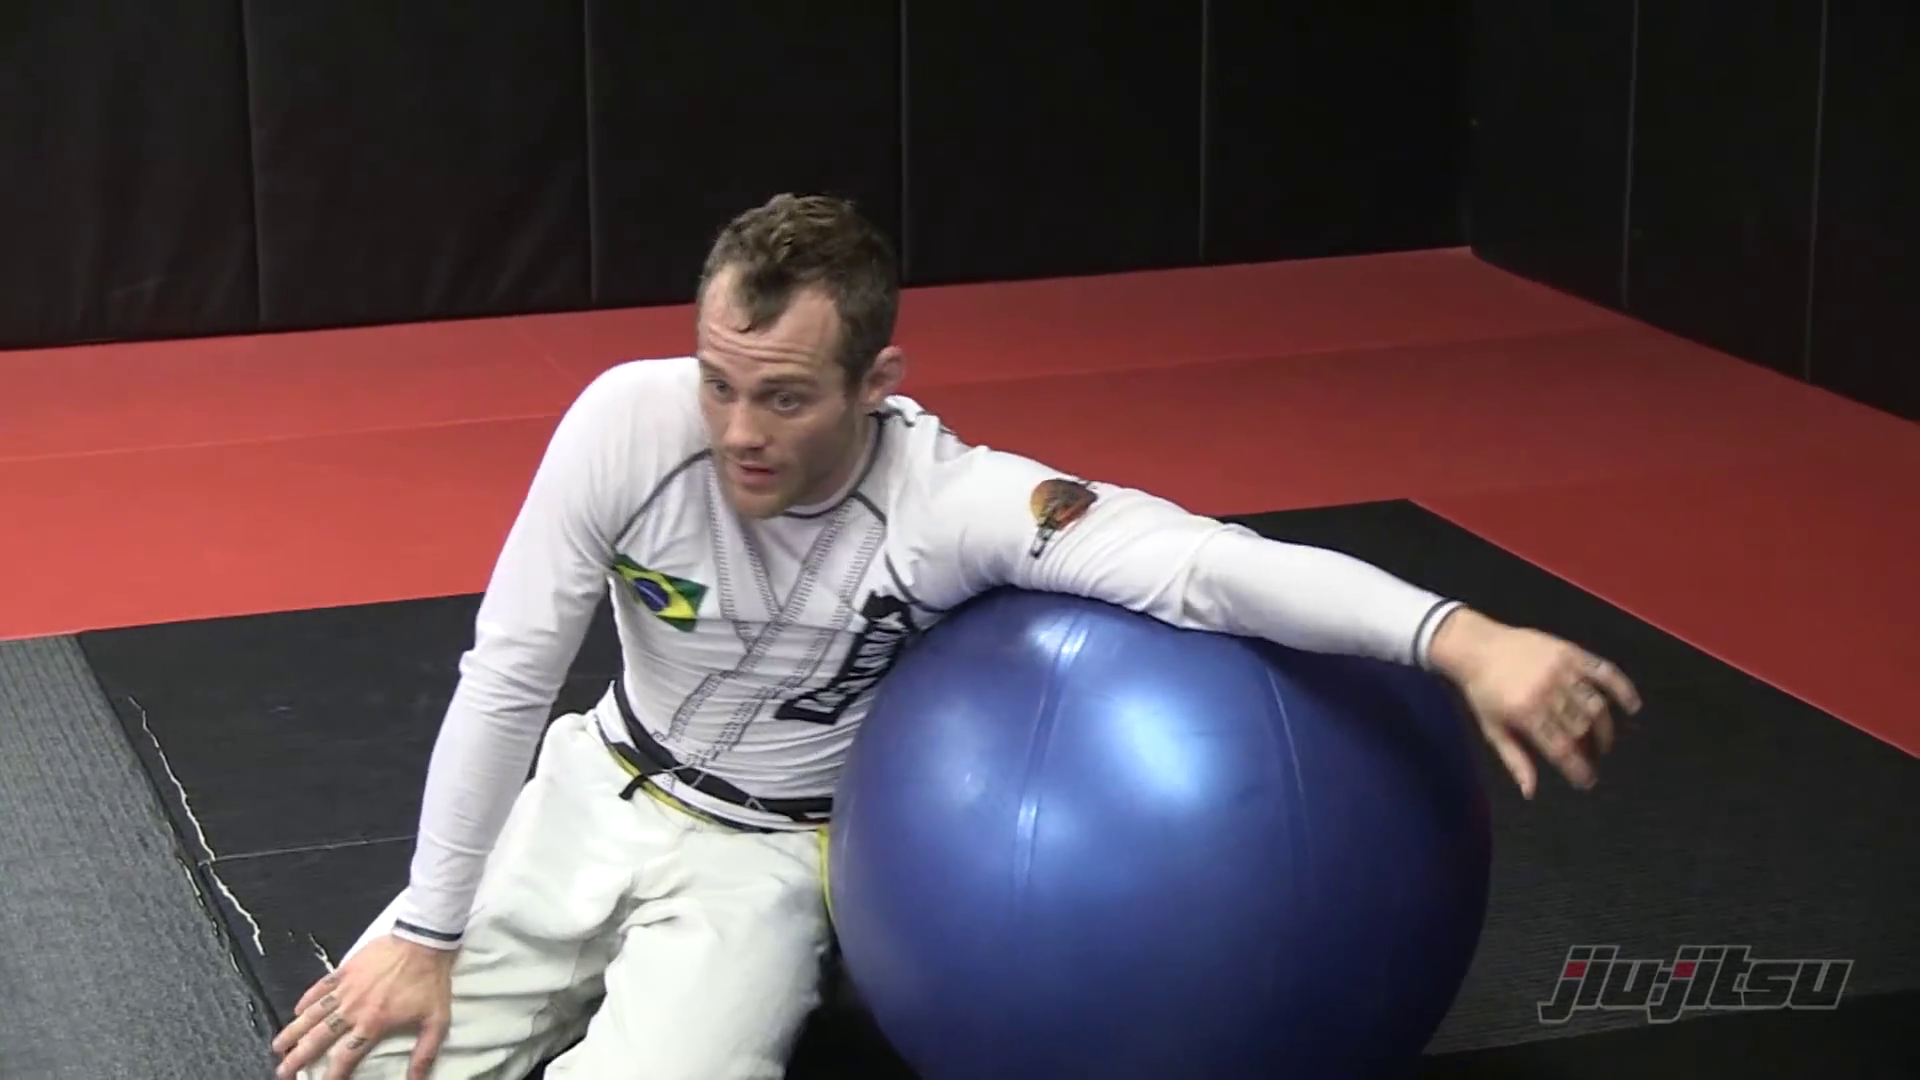yogaball: (806, 568, 1501, 1080)
